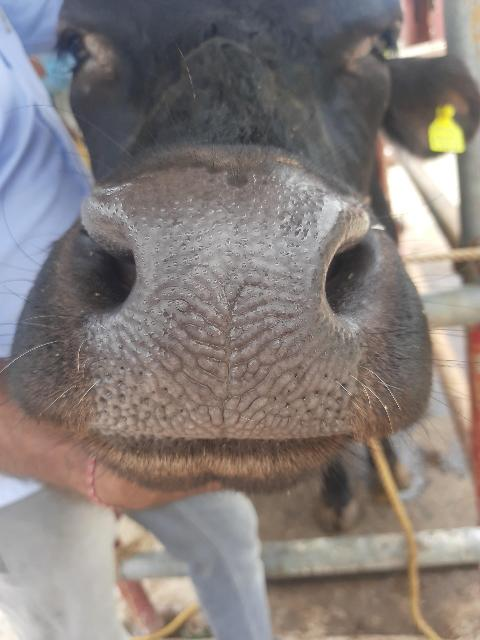Muzzle: (108, 184, 328, 438)
